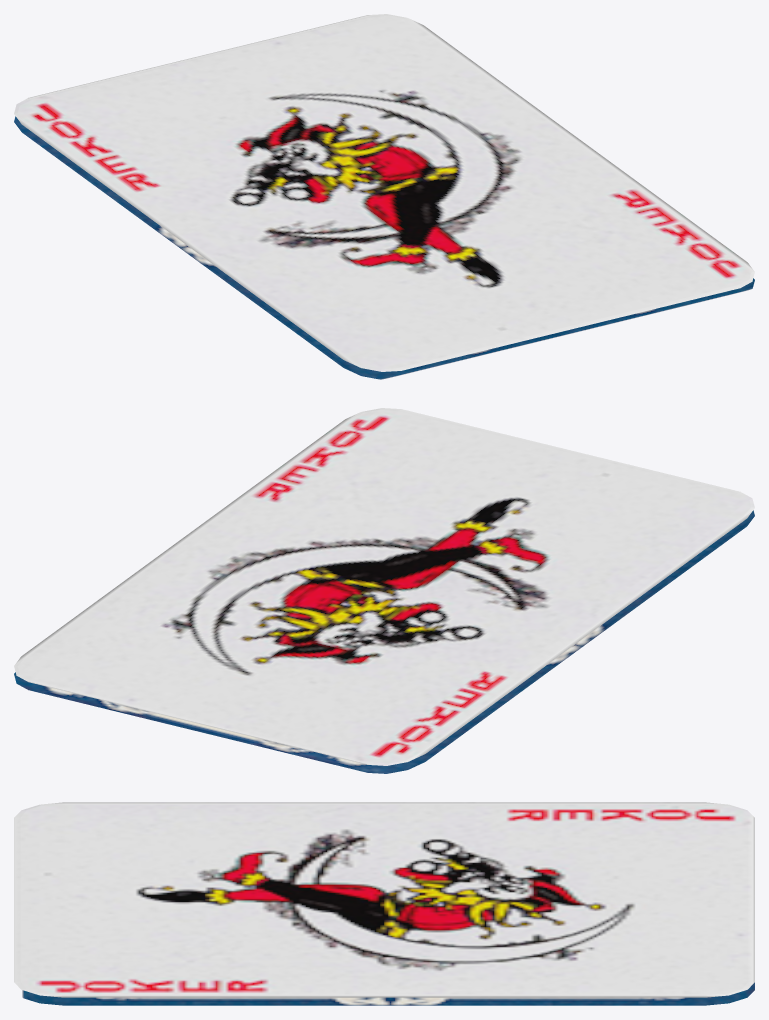
The model's file is Card.fbx.
3 renders of one model, top to bottom at view 1: azimuth 30°, elevation 25°; view 2: azimuth 150°, elevation 25°; view 3: azimuth 270°, elevation 25°, orthographic.
Visible parts, largest first — view 1: Card; view 2: Card; view 3: Card.
Part boxes in pixels (box(x1,y1,x2,y2)): Card: box(14, 14, 754, 379); Card: box(14, 408, 754, 773); Card: box(14, 802, 754, 1005).
Size of the model in its own units: 227 by 5.09 by 363.
